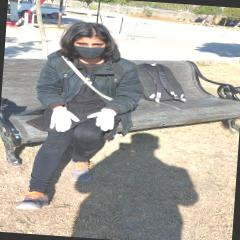gloved: (48, 106, 80, 134), (86, 107, 118, 132)
